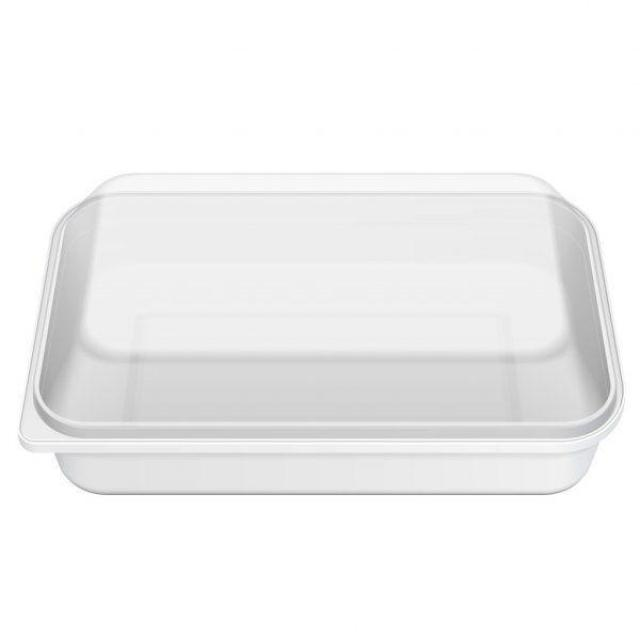styrofoam: (17, 170, 625, 497)
